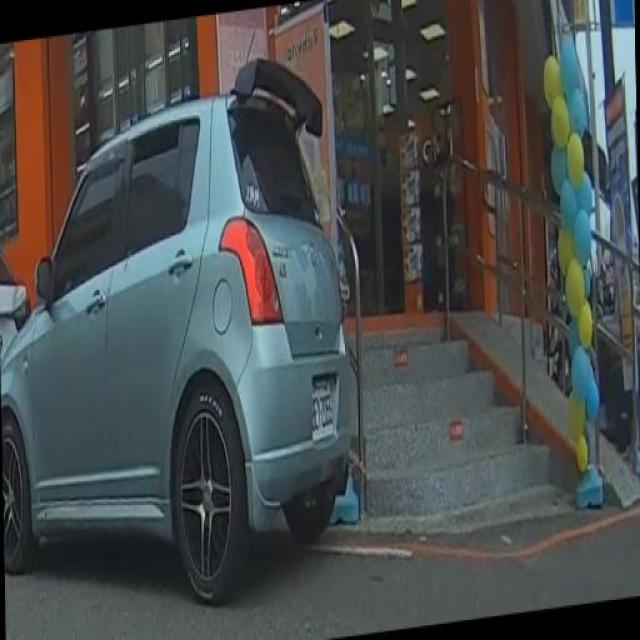Legalparking: (0, 42, 362, 624)
